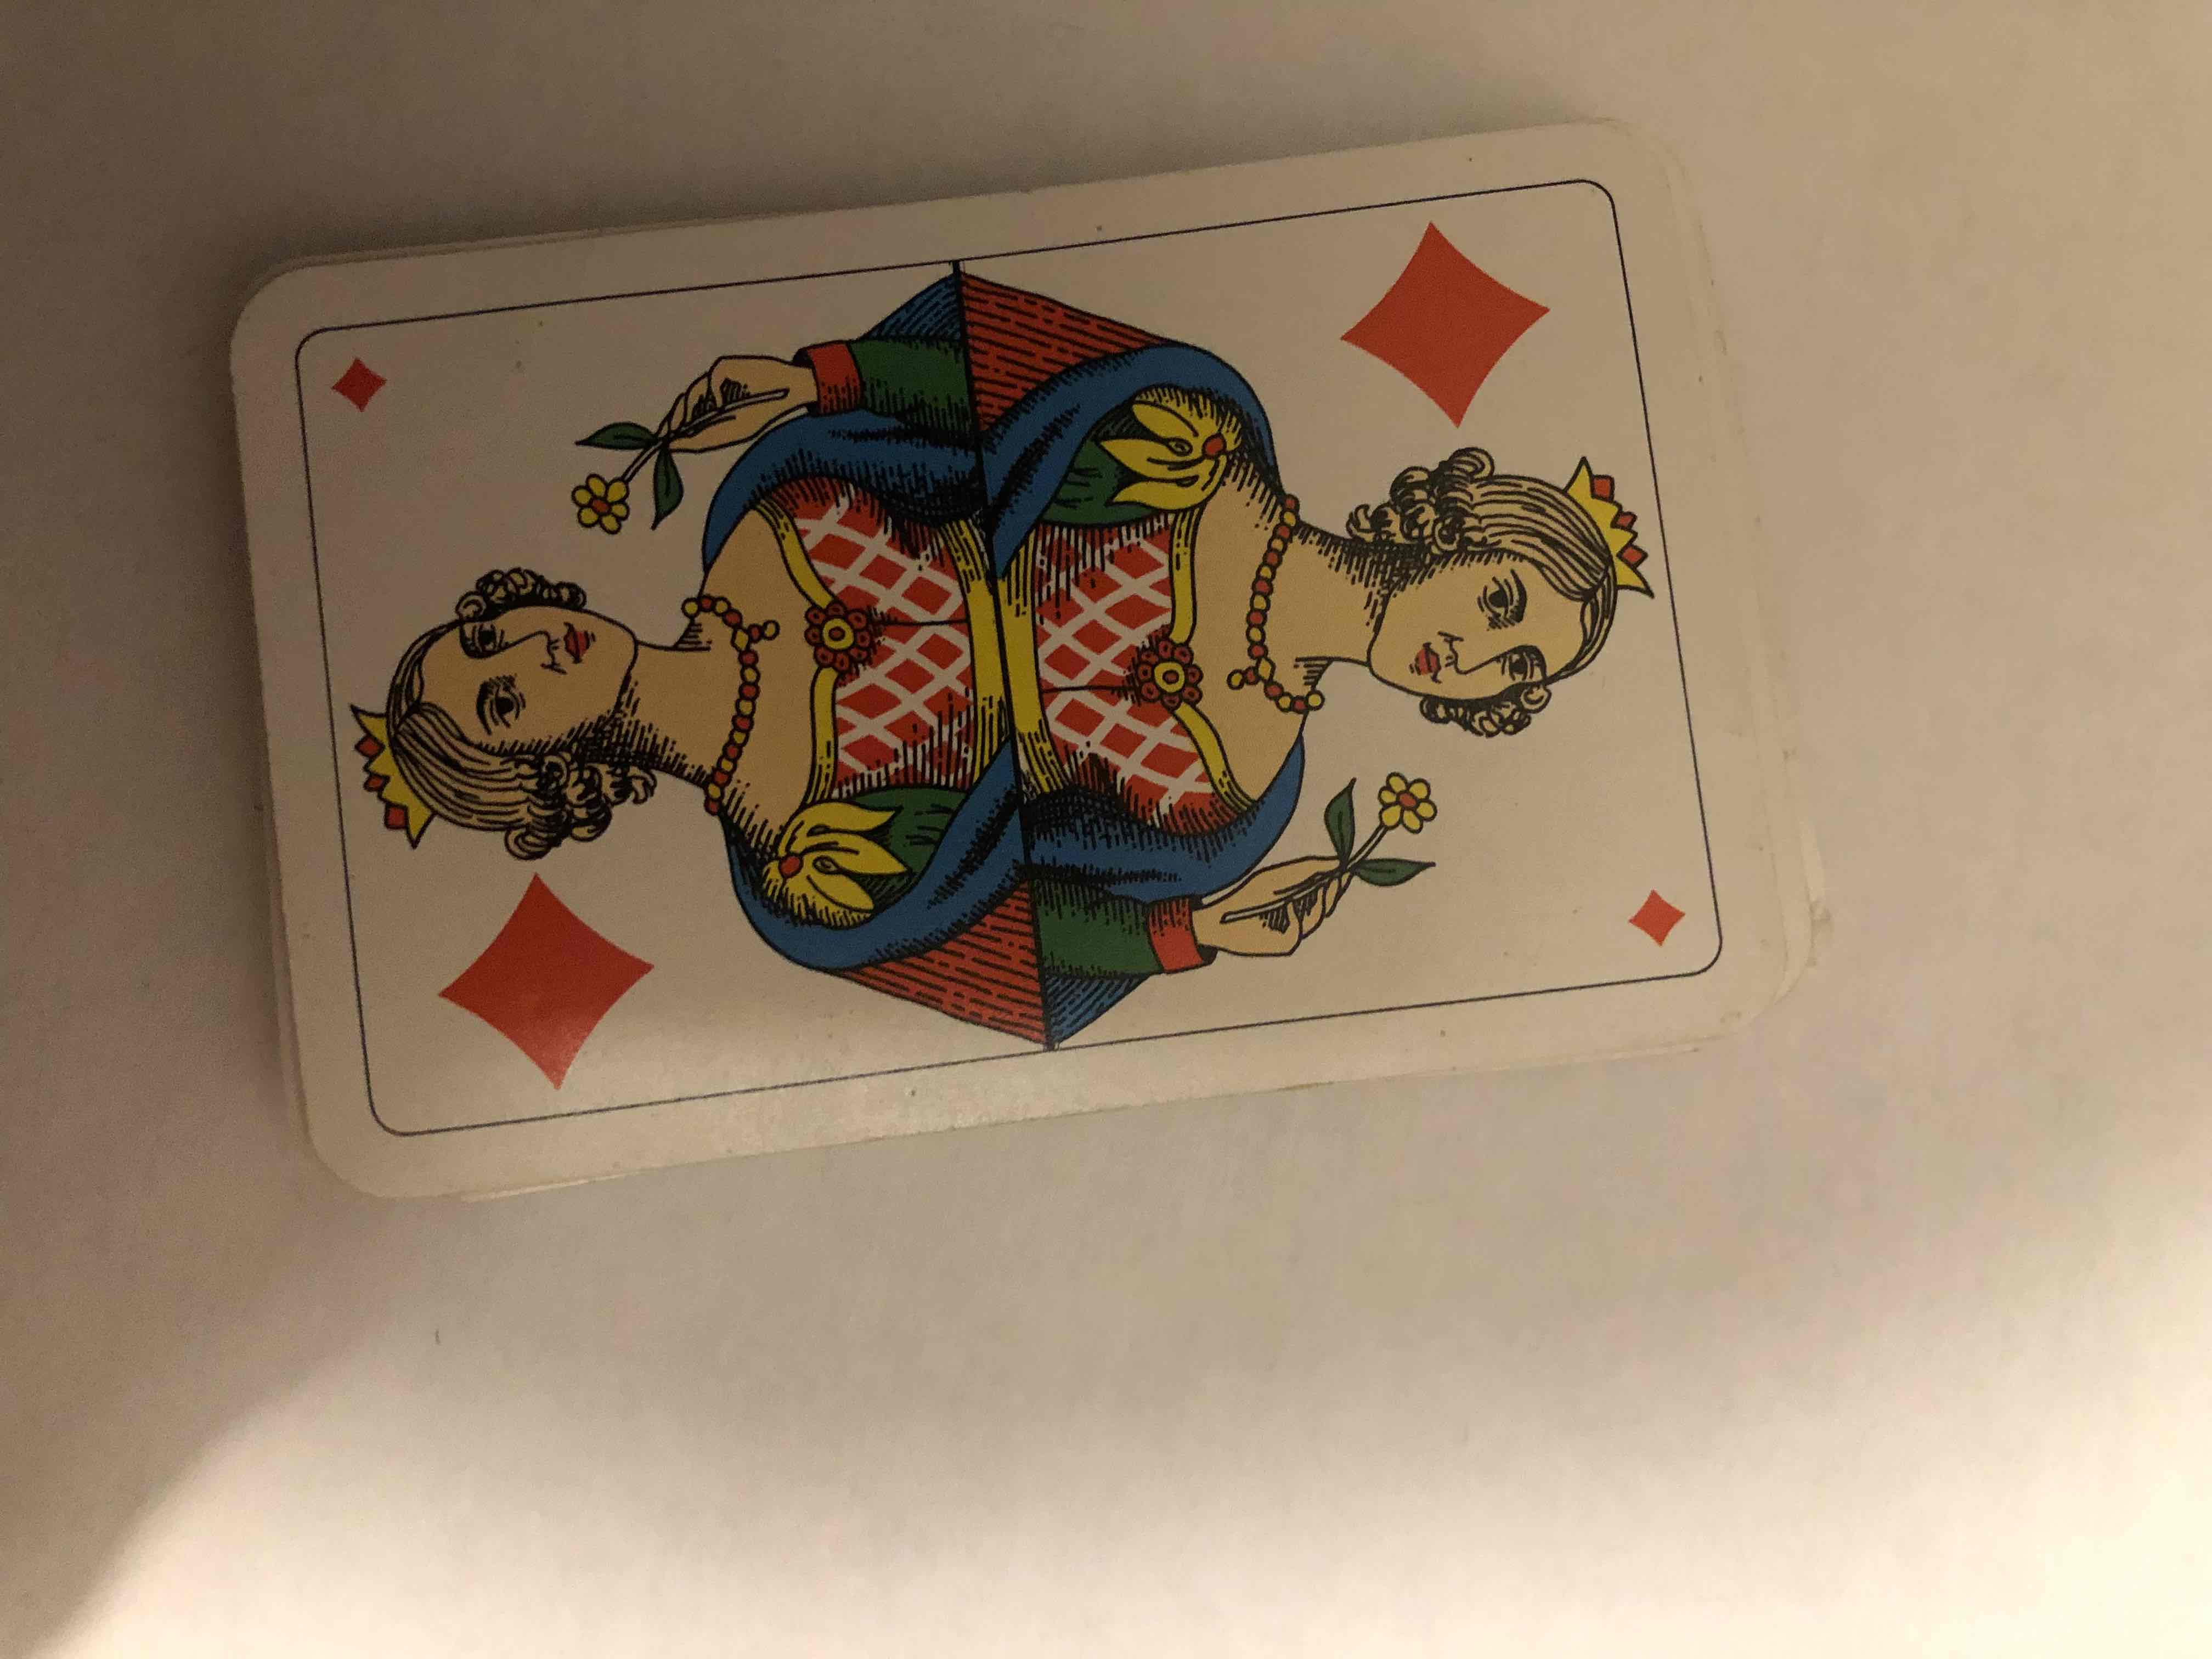diamondQueen: (280, 209, 1836, 1084)
